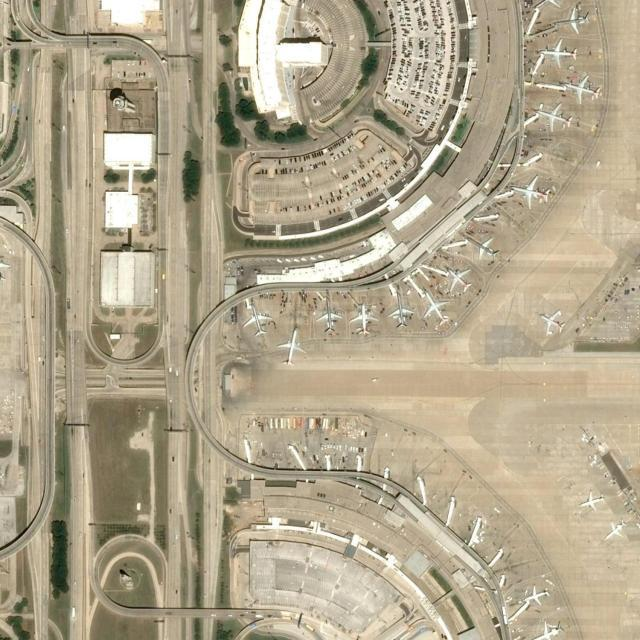Aircraft: (564, 72, 602, 106), (511, 173, 548, 207), (275, 327, 307, 363), (533, 103, 573, 131), (242, 306, 273, 338), (422, 293, 452, 326), (541, 40, 577, 67), (556, 6, 592, 32), (439, 266, 474, 292), (539, 307, 568, 338), (468, 234, 500, 262), (387, 297, 415, 327), (352, 301, 376, 336), (315, 305, 342, 333), (578, 490, 605, 512), (601, 521, 629, 541), (524, 585, 549, 607), (530, 622, 560, 640), (0, 252, 13, 281)
